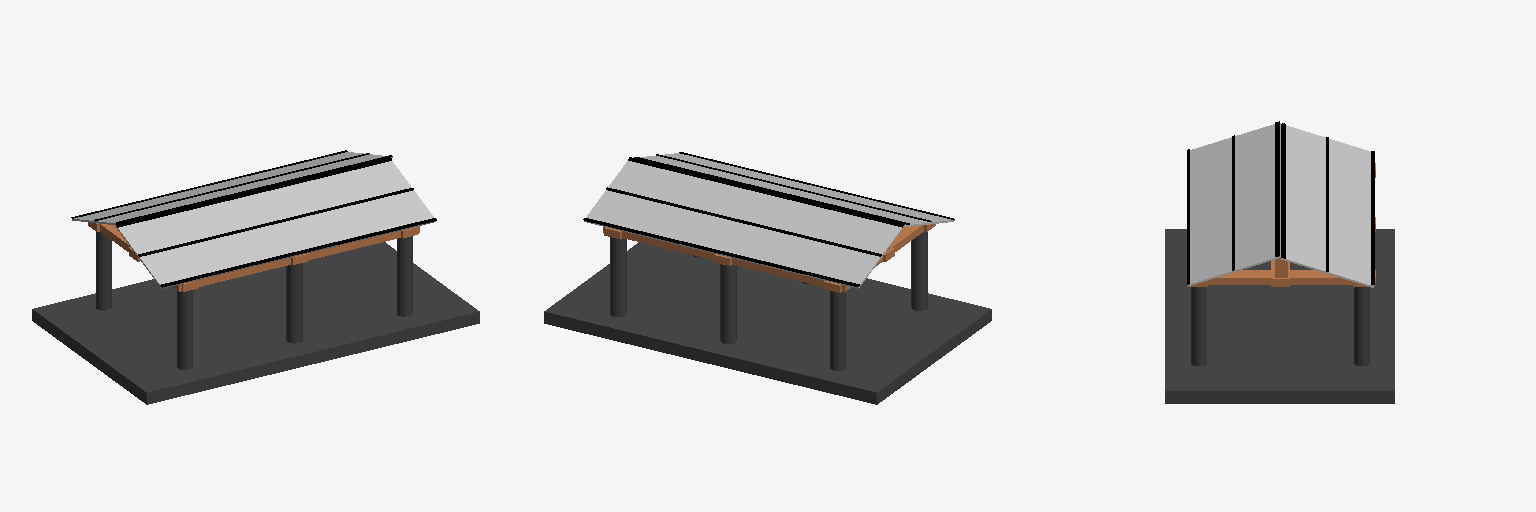
Rendered from maison.obj.
3 renders of one model, left to right at view 1: azimuth 30°, elevation 25°; view 2: azimuth 150°, elevation 25°; view 3: azimuth 270°, elevation 25°, orthographic.
Parts seen in each view (by area): view 1: Plane.001_Plane.002; view 2: Plane.001_Plane.002; view 3: Plane.001_Plane.002.
Boxes of the visible parts, <box> form: Plane.001_Plane.002: <box>32,150,479,404</box>; Plane.001_Plane.002: <box>544,152,991,404</box>; Plane.001_Plane.002: <box>1165,121,1394,403</box>.
Bounding box in the file's own units: 7.29 × 2.78 × 4.35.